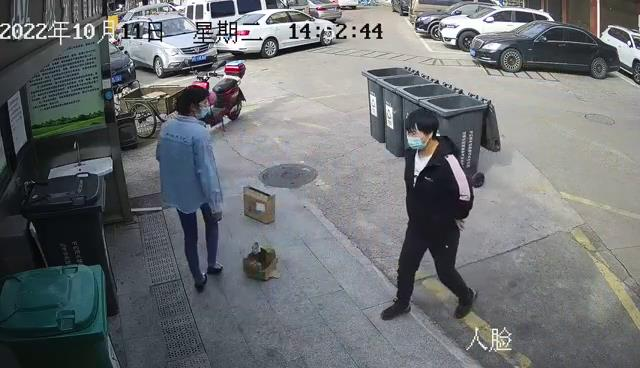person: (374, 106, 480, 328)
worker: (151, 83, 231, 298)
zhizhipin: (240, 238, 283, 285), (240, 184, 279, 227)
